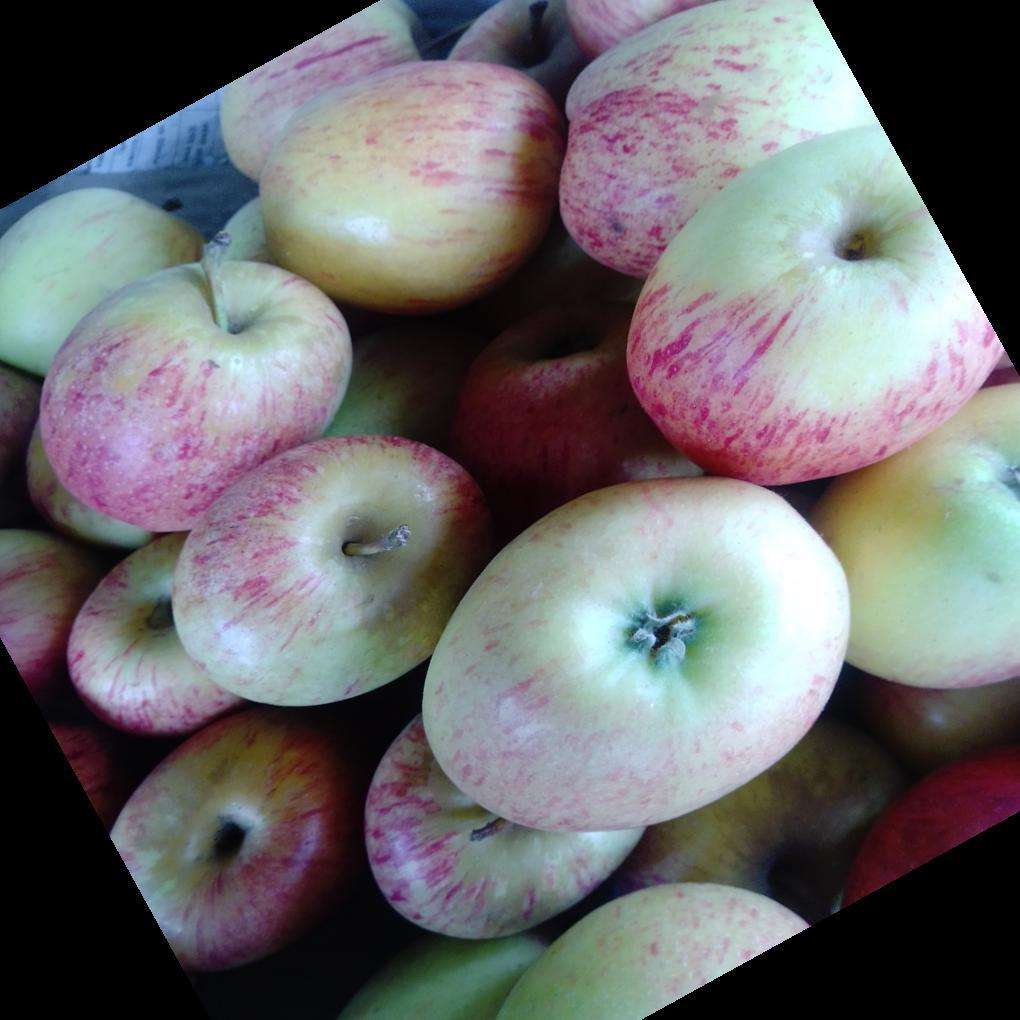FreshGuava: (0, 30, 1020, 1020)
